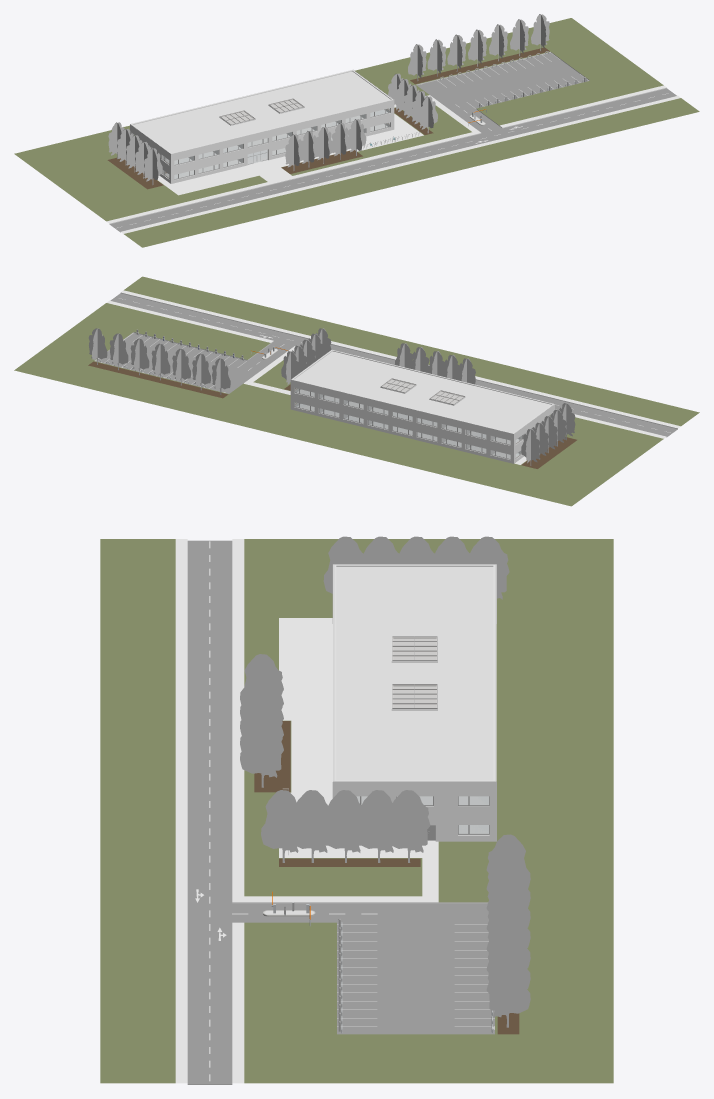
The picture shows the model from 3 angles, top to bottom: view 1: azimuth 30°, elevation 25°; view 2: azimuth 150°, elevation 25°; view 3: azimuth 270°, elevation 25°; orthographic projection. The views are drawn at different scales.
Parts seen in each view (by area): view 1: 3A8hY1UoD7JhnLeZeDyU4B, 3A8hY1UoD7JhnLeZeDyU2J, 0CWDnGbzX4Sf1BesL9Tj4o, 3A8hY1UoD7JhnLeZeDyUs3, 12bPoIwbv0tBGfPfnvCUc2, 3A8hY1UoD7JhnLeZeDyQc9, 3A8hY1UoD7JhnLeZeDyU2I, 0P898JVsX6VQGfAj0lC8$w, 3LJODRGPbDdfXHXShFLAxF, 3LJODRGPbDdfXHXShFLAnr, 12bPoIwbv0tBGfPfnvCUau, 0P898JVsX6VQGfAj0lC8w9 (+14 smaller); view 2: 3A8hY1UoD7JhnLeZeDyU4B, 0CWDnGbzX4Sf1BesL9Tj4o, 3A8hY1UoD7JhnLeZeDyU2J, 12bPoIwbv0tBGfPfnvCUYu, 3A8hY1UoD7JhnLeZeDyUs3, 3A8hY1UoD7JhnLeZeDyU2I, 0P898JVsX6VQGfAj0lC8$w, 3LJODRGPbDdfXHXShFLAxF, 3LJODRGPbDdfXHXShFLAnr, 3A8hY1UoD7JhnLeZeDyQc9, 12bPoIwbv0tBGfPfnvCUau, 3A8hY1UoD7JhnLeZeDyQto (+9 smaller); view 3: 3A8hY1UoD7JhnLeZeDyU4B, 3A8hY1UoD7JhnLeZeDyU2J, 0CWDnGbzX4Sf1BesL9Tj4o, 3A8hY1UoD7JhnLeZeDyUs3, 12bPoIwbv0tBGfPfnvCUW2, 3A8hY1UoD7JhnLeZeDyQc9, 0P898JVsX6VQGfAj0lC8w9, 3A8hY1UoD7JhnLeZeDyQqa, 3A8hY1UoD7JhnLeZeDyQpf, 3A8hY1UoD7JhnLeZeDyQqC, 3A8hY1UoD7JhnLeZeDyQqq, 3A8hY1UoD7JhnLeZeDyQq4 (+10 smaller).
Boxes of the visible parts, bbox=[...] form: 3A8hY1UoD7JhnLeZeDyU4B: bbox=[14, 18, 699, 247]; 3A8hY1UoD7JhnLeZeDyU2J: bbox=[109, 52, 676, 232]; 0CWDnGbzX4Sf1BesL9Tj4o: bbox=[133, 71, 390, 152]; 3A8hY1UoD7JhnLeZeDyUs3: bbox=[106, 85, 680, 233]; 12bPoIwbv0tBGfPfnvCUc2: bbox=[171, 99, 394, 183]; 3A8hY1UoD7JhnLeZeDyQc9: bbox=[107, 108, 433, 189]; 3A8hY1UoD7JhnLeZeDyU2I: bbox=[109, 52, 666, 224]; 0P898JVsX6VQGfAj0lC8$w: bbox=[410, 47, 549, 84]; 3LJODRGPbDdfXHXShFLAxF: bbox=[139, 109, 387, 164]; 3LJODRGPbDdfXHXShFLAnr: bbox=[164, 124, 387, 178]; 12bPoIwbv0tBGfPfnvCUau: bbox=[130, 124, 170, 183]; 0P898JVsX6VQGfAj0lC8w9: bbox=[531, 14, 549, 54]; 3A8hY1UoD7JhnLeZeDyU4B: bbox=[14, 276, 699, 506]; 0CWDnGbzX4Sf1BesL9Tj4o: bbox=[294, 351, 551, 432]; 3A8hY1UoD7JhnLeZeDyU2J: bbox=[95, 293, 677, 436]; 12bPoIwbv0tBGfPfnvCUYu: bbox=[290, 379, 513, 463]; 3A8hY1UoD7JhnLeZeDyUs3: bbox=[106, 290, 680, 464]; 3A8hY1UoD7JhnLeZeDyU2I: bbox=[94, 292, 677, 437]; 0P898JVsX6VQGfAj0lC8$w: bbox=[88, 361, 228, 398]; 3LJODRGPbDdfXHXShFLAxF: bbox=[297, 389, 519, 444]; 3LJODRGPbDdfXHXShFLAnr: bbox=[297, 404, 519, 458]; 3A8hY1UoD7JhnLeZeDyQc9: bbox=[284, 384, 576, 468]; 12bPoIwbv0tBGfPfnvCUau: bbox=[513, 404, 554, 463]; 3A8hY1UoD7JhnLeZeDyQto: bbox=[521, 429, 539, 465]; 3A8hY1UoD7JhnLeZeDyU4B: bbox=[100, 539, 613, 1083]; 3A8hY1UoD7JhnLeZeDyU2J: bbox=[187, 540, 494, 1084]; 0CWDnGbzX4Sf1BesL9Tj4o: bbox=[336, 567, 493, 780]; 3A8hY1UoD7JhnLeZeDyUs3: bbox=[175, 539, 438, 1083]; 12bPoIwbv0tBGfPfnvCUW2: bbox=[332, 781, 496, 841]; 3A8hY1UoD7JhnLeZeDyQc9: bbox=[254, 721, 420, 866]; 0P898JVsX6VQGfAj0lC8w9: bbox=[486, 954, 530, 1029]; 3A8hY1UoD7JhnLeZeDyQqa: bbox=[261, 790, 304, 862]; 3A8hY1UoD7JhnLeZeDyQpf: bbox=[240, 715, 283, 787]; 3A8hY1UoD7JhnLeZeDyQqC: bbox=[357, 790, 400, 862]; 3A8hY1UoD7JhnLeZeDyQqq: bbox=[323, 790, 366, 862]; 3A8hY1UoD7JhnLeZeDyQq4: bbox=[387, 790, 430, 862].
Size of what is drawn, in the model's own units: 159 by 13.82 by 63.53.
